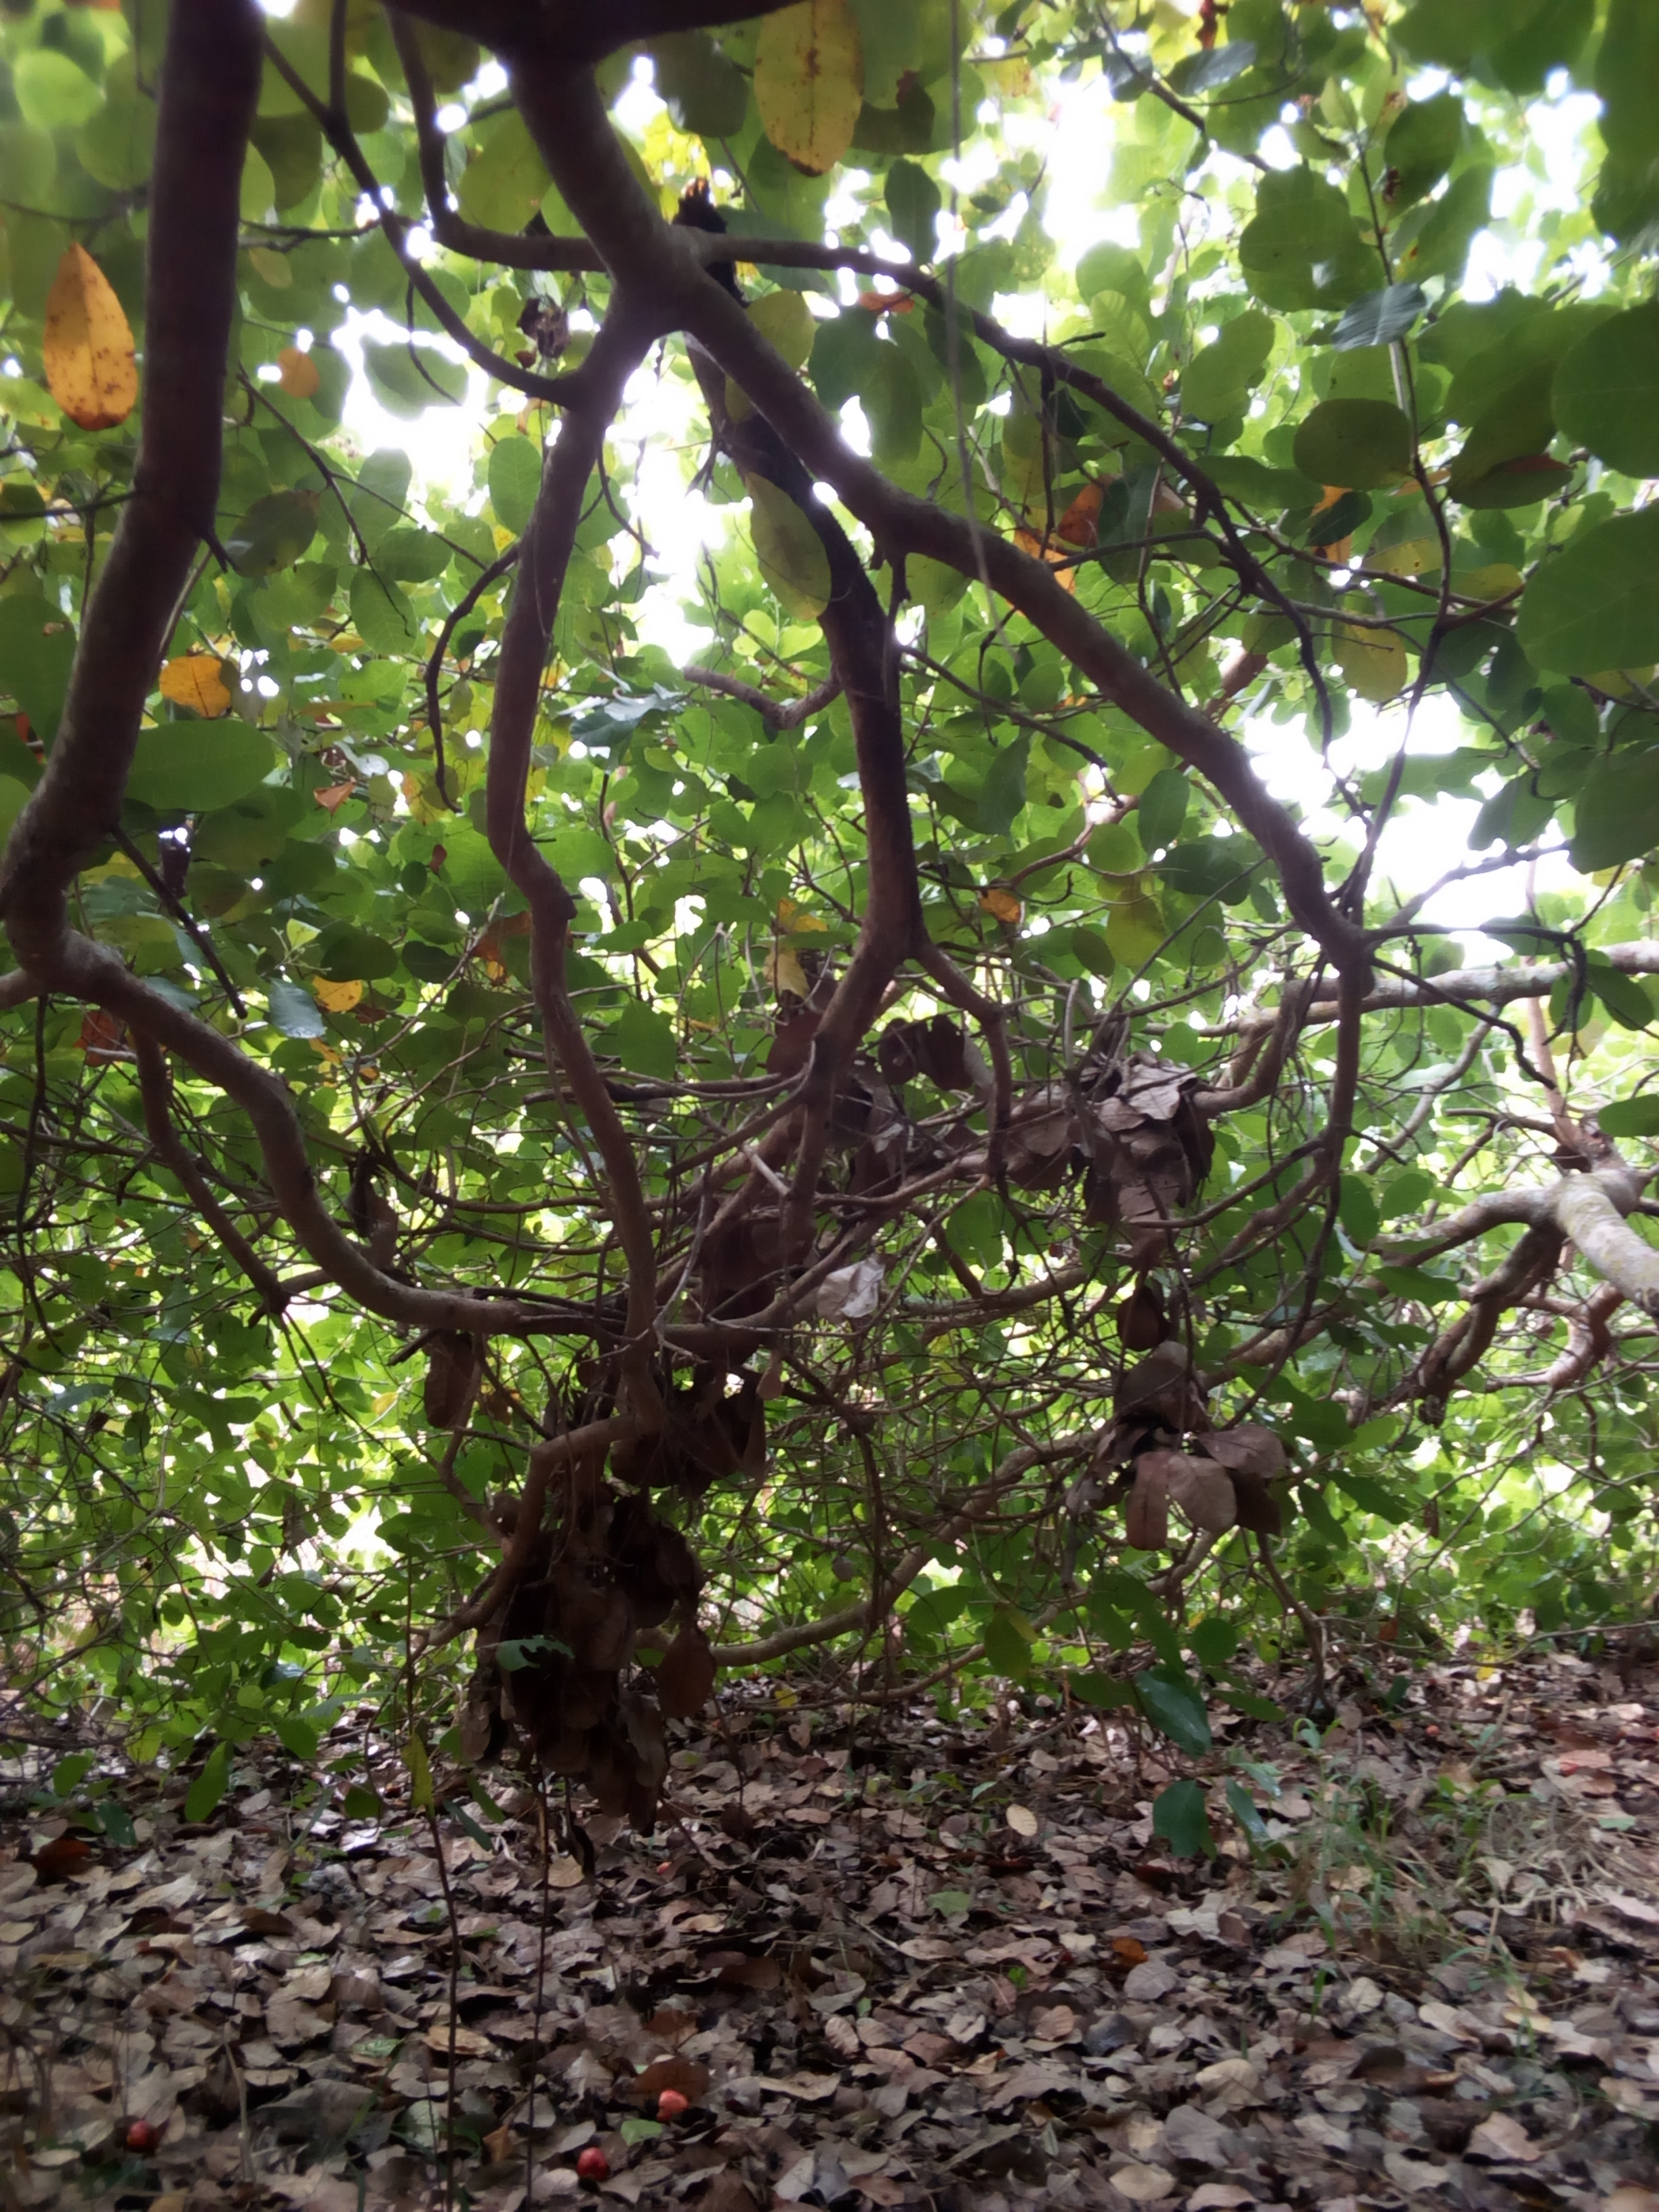Dessèchement des bourgeons: (1124, 1357, 1310, 1543)
